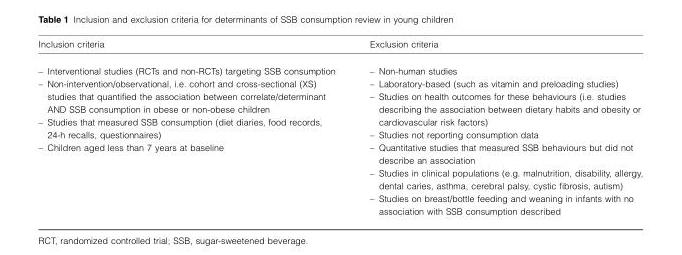table: (37, 37, 642, 215)
table column: (37, 37, 351, 215), (351, 37, 642, 215)
table column header: (37, 37, 642, 56)
table row: (37, 56, 642, 215), (37, 37, 642, 56)
